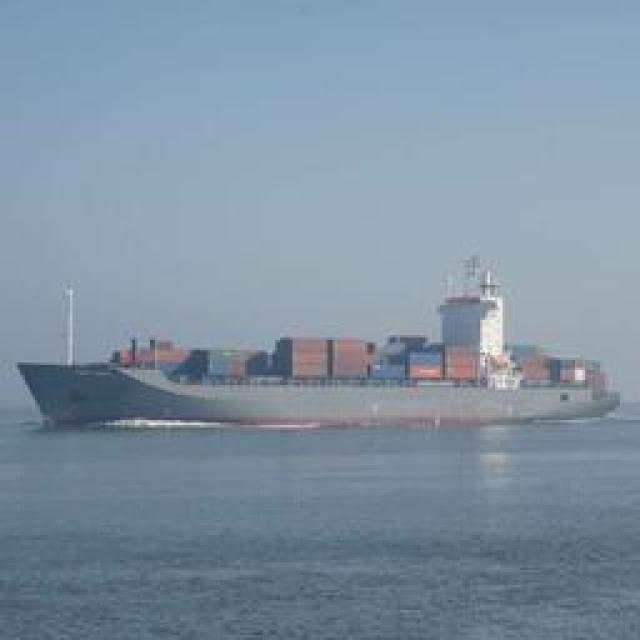CIV_Ship: (14, 308, 618, 428)
